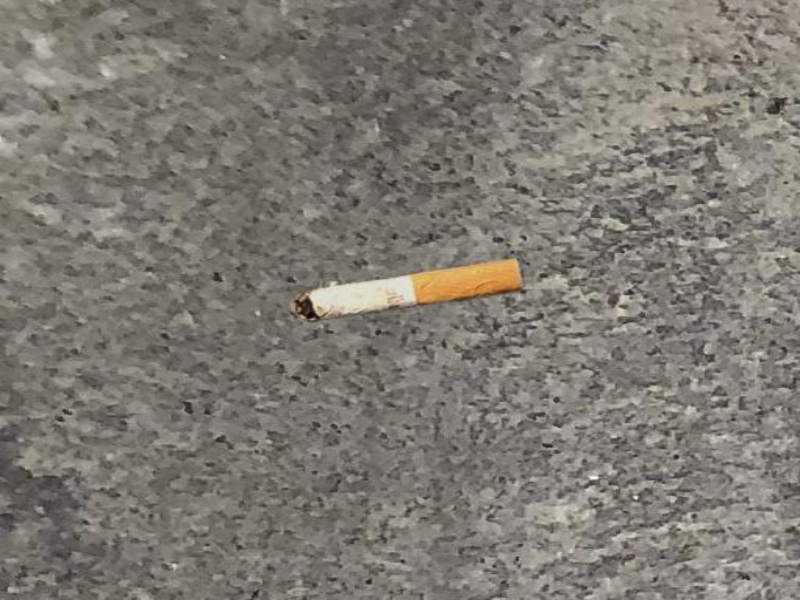cig: (291, 252, 531, 325)
